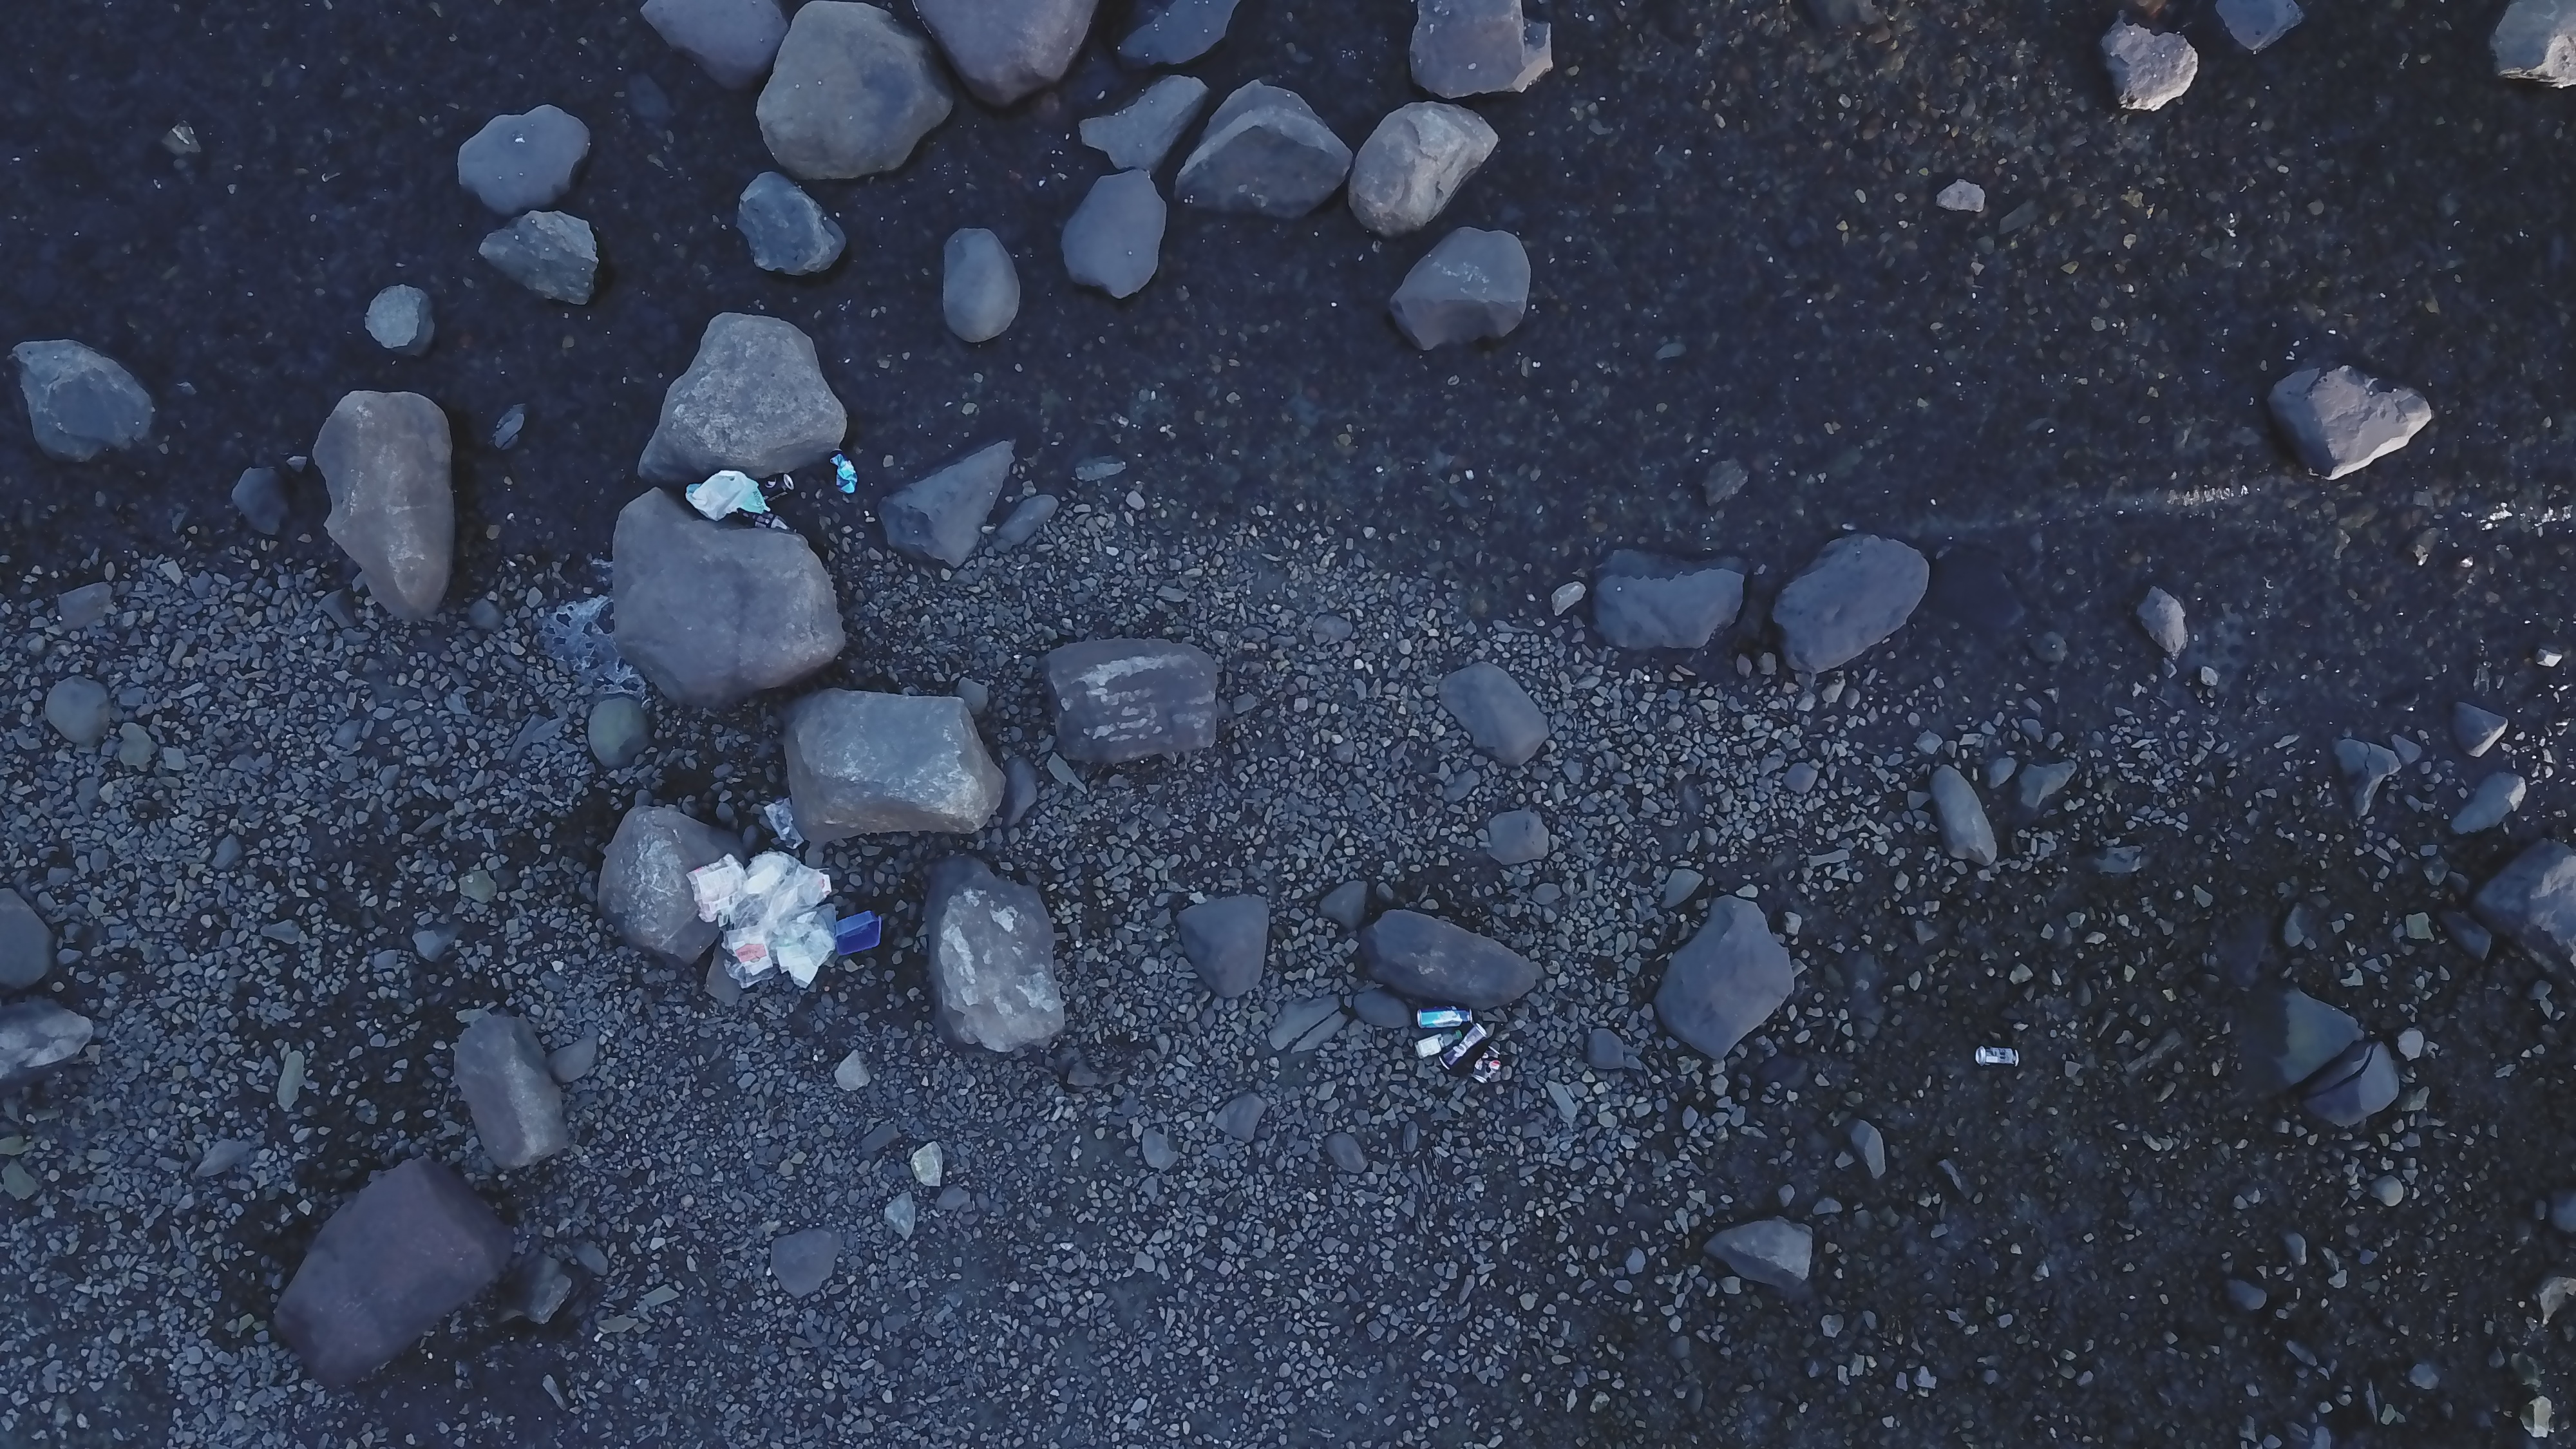Can: (1265, 702, 1311, 750), (1010, 695, 1040, 752), (830, 446, 862, 497), (1727, 1058, 1757, 1111), (637, 748, 665, 803), (1318, 931, 1357, 968), (1550, 970, 1592, 1003), (1974, 1044, 2028, 1070), (755, 474, 798, 506), (1417, 1007, 1476, 1030), (356, 639, 386, 681), (384, 1086, 412, 1131), (442, 579, 479, 612), (2203, 828, 2235, 867), (1617, 655, 1663, 679), (1476, 1046, 1504, 1085), (458, 1330, 485, 1371), (1456, 1028, 1483, 1058)
Plastic: (745, 849, 833, 920), (241, 522, 322, 598), (718, 768, 784, 849), (773, 915, 837, 989), (681, 467, 775, 517), (202, 531, 264, 605), (724, 922, 784, 991), (692, 849, 743, 920), (262, 589, 327, 639), (796, 796, 846, 856), (249, 513, 338, 547), (835, 909, 890, 955), (324, 557, 363, 619), (757, 748, 833, 777), (768, 800, 807, 851)
PlasticBottle: (1421, 1023, 1468, 1062), (734, 510, 800, 534)
